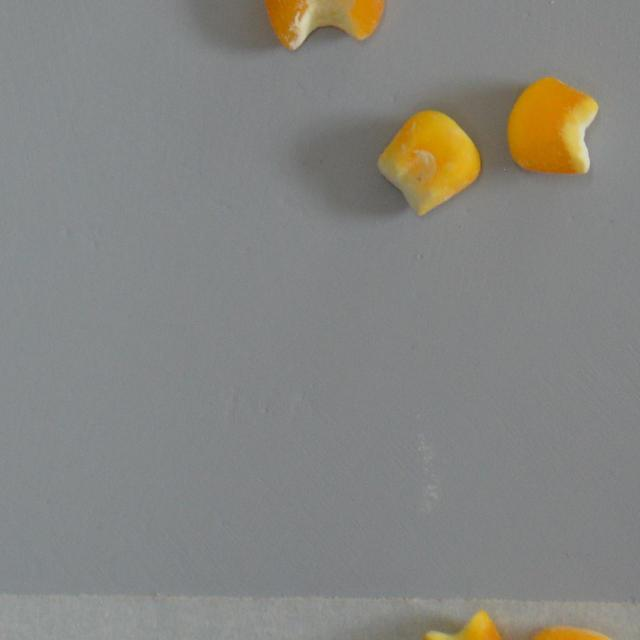no_canjicado: (506, 74, 600, 174), (262, 0, 386, 50)
pelicula: (376, 106, 481, 216)
